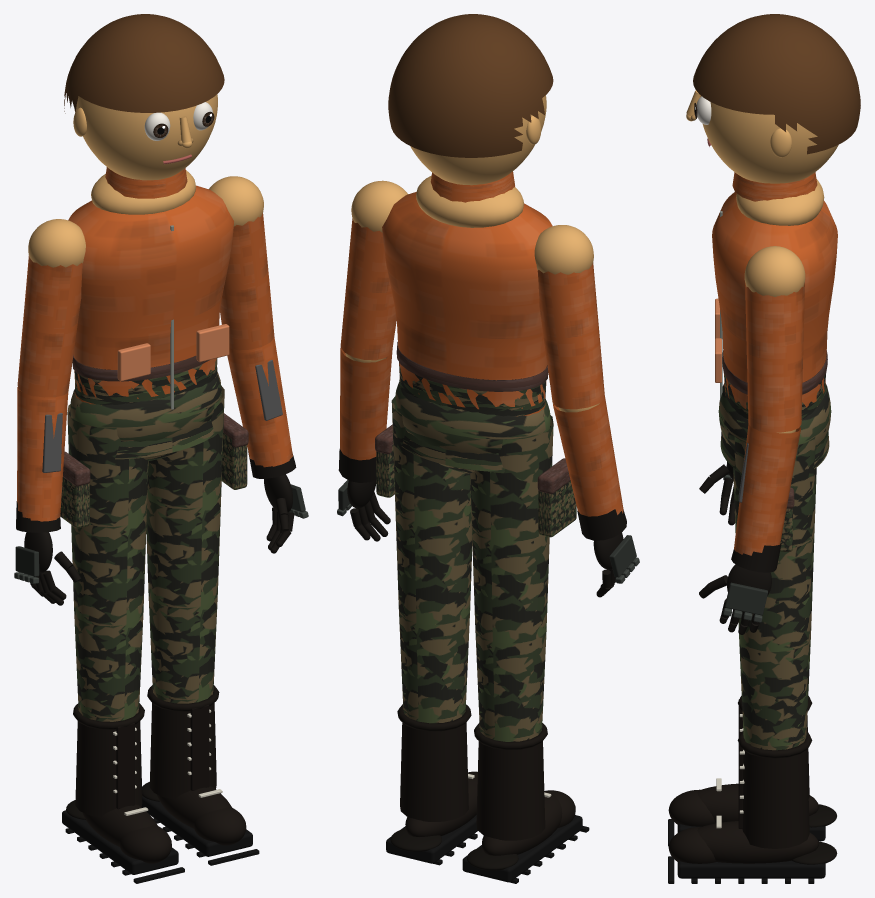
The model's file is 08-protege-bras.glb.
The picture shows the model from 3 angles, left to right: view 1: azimuth 30°, elevation 25°; view 2: azimuth 150°, elevation 25°; view 3: azimuth 270°, elevation 25°; orthographic projection. The views are drawn at different scales.
Bounding box in the file's own units: 0.6344 × 1.77 × 0.3715.
Materials: 28 (4 with a texture image).
